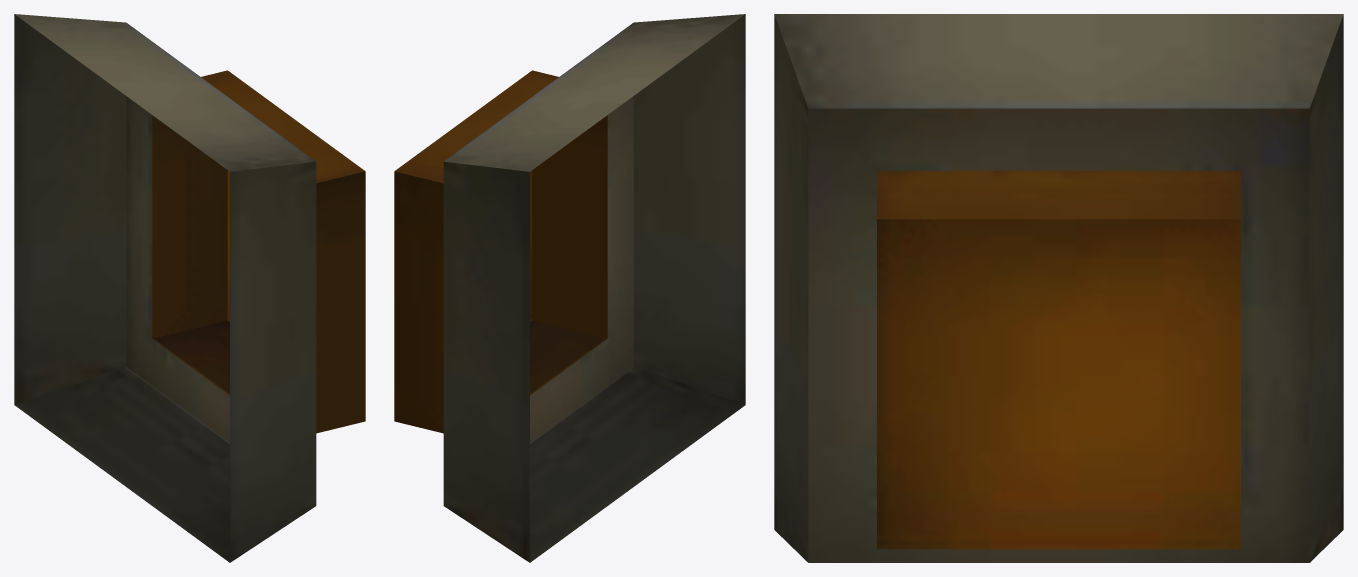
Rendered from lightButton.fbx.
The picture shows the model from 3 angles, left to right: view 1: azimuth 30°, elevation 25°; view 2: azimuth 150°, elevation 25°; view 3: azimuth 270°, elevation 25°; orthographic projection. The views are drawn at different scales.
Parts seen in each view (by area): view 1: pCube1; view 2: pCube1; view 3: pCube1.
Boxes of the visible parts, left/top/right/bottom form: pCube1: left=14, top=14, right=365, bottom=562; pCube1: left=394, top=14, right=745, bottom=562; pCube1: left=774, top=14, right=1343, bottom=562.
Size of the model in its own units: 1.78 by 3.8 by 3.8.
